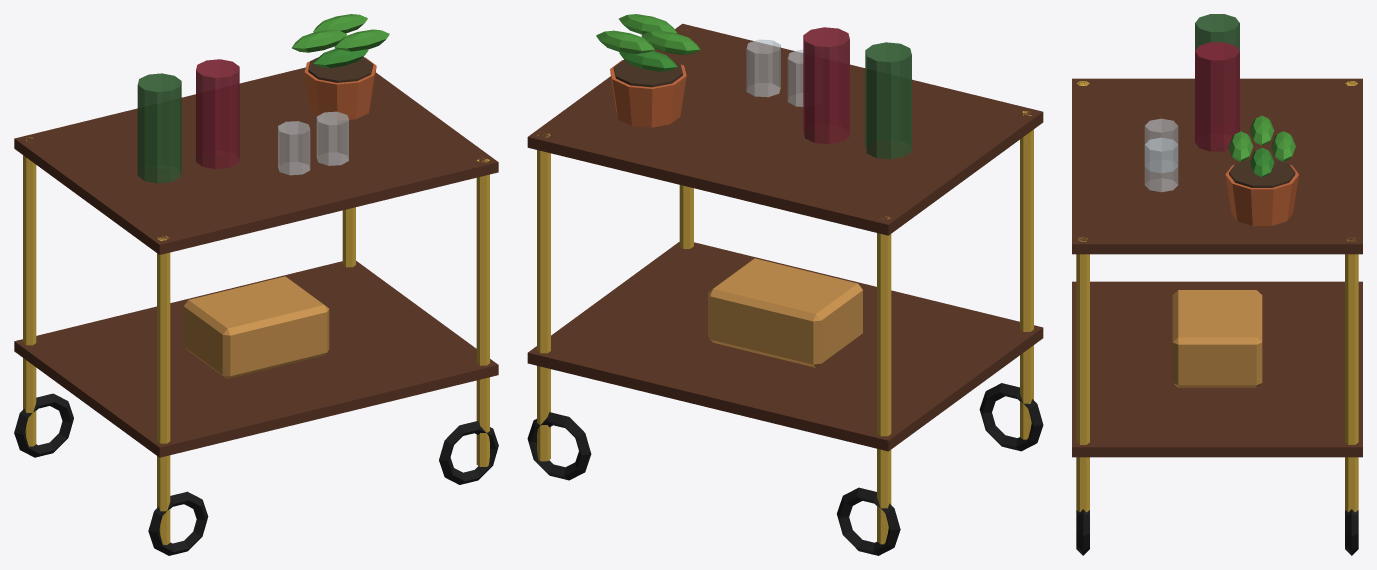
The model's file is bar_cart.glb.
The picture shows the model from 3 angles, left to right: view 1: azimuth 30°, elevation 25°; view 2: azimuth 150°, elevation 25°; view 3: azimuth 270°, elevation 25°; orthographic projection. The views are drawn at different scales.
Visible parts, largest first — view 1: bar_cart; view 2: bar_cart; view 3: bar_cart.
Boxes of the visible parts, x1,y1,x2,y2 form: bar_cart: [14, 14, 498, 555]; bar_cart: [527, 14, 1043, 555]; bar_cart: [1072, 14, 1362, 555].
Size of the model in its own units: 0.724 by 0.809 by 0.52.
